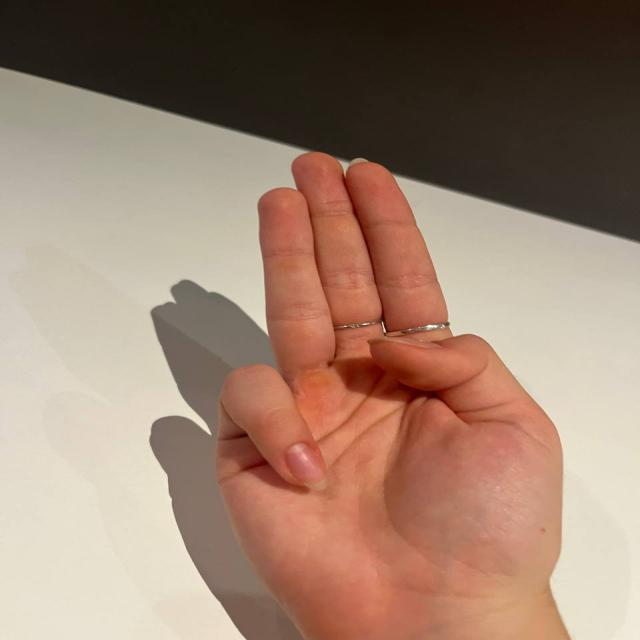sh: (180, 153, 560, 560)
